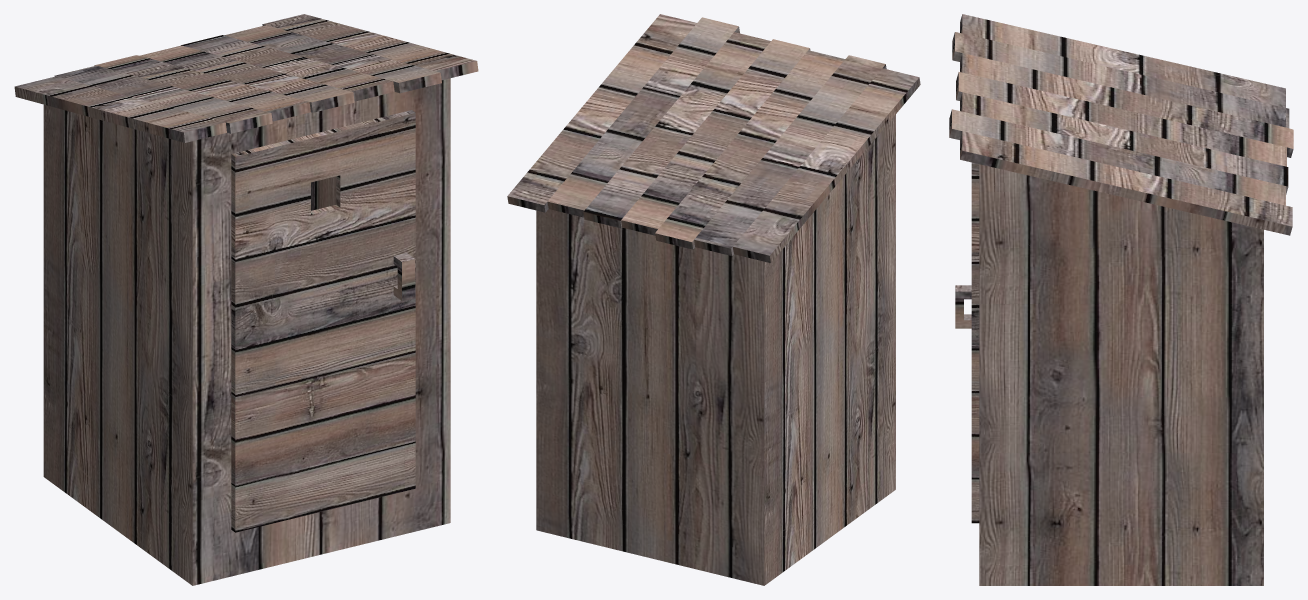
Rendered from Vl_Outhouse.glb.
3 views of the same model, side by side, from view 1: azimuth 30°, elevation 25°; view 2: azimuth 150°, elevation 25°; view 3: azimuth 270°, elevation 25° (orthographic). The views are drawn at different scales.
Parts seen in each view (by area): view 1: Outhouse; view 2: Outhouse; view 3: Outhouse.
Part boxes in pixels (x1,y1,x2,y2): Outhouse: (14,14,478,585); Outhouse: (507,14,920,585); Outhouse: (949,14,1293,585).
Bounding box in the file's own units: 1.36 × 2.08 × 1.45.
Materials: 1 (1 with a texture image).
